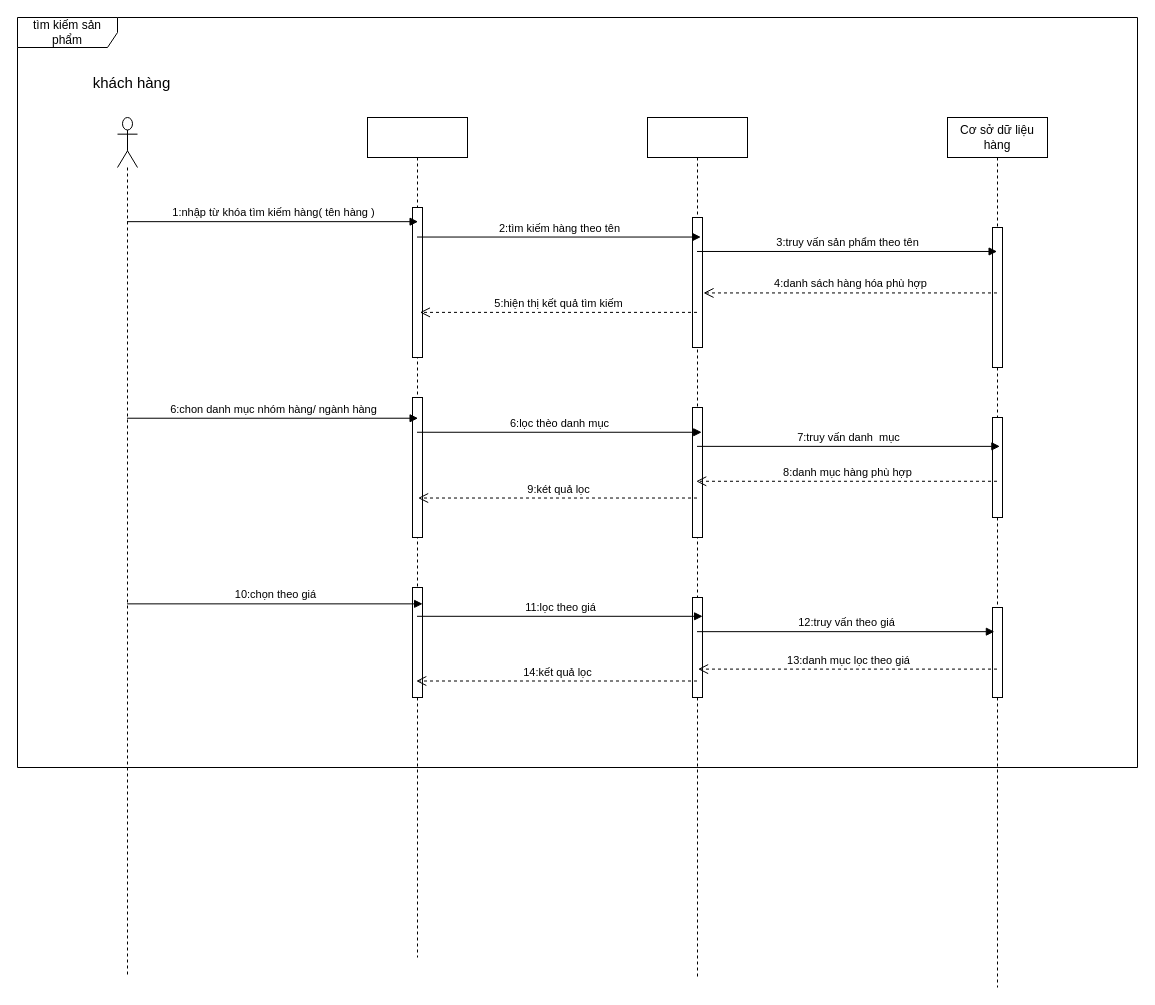
The diagram is 1155 pixels wide and 1005 high, and some of its shapes have lost their labels. Each missing label, with the centre of its shape:
"Giao diện tìm kiếm hàng" goes at pixel 417 537.
"Xử lý hàng" goes at pixel 697 547.
